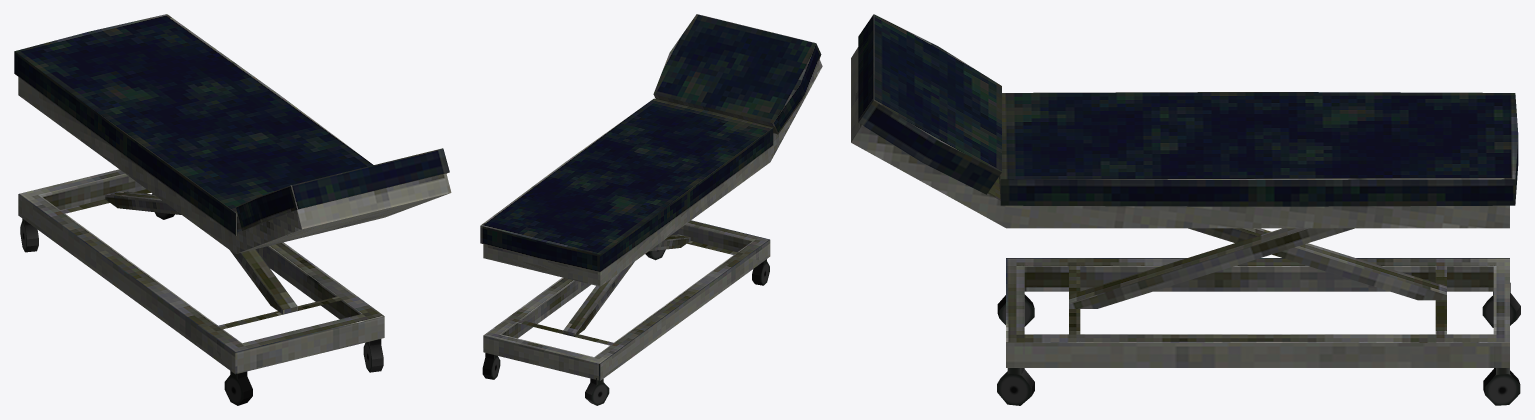
File: SM_GurneyBed.fbx
3 views of the same model, side by side, from view 1: azimuth 30°, elevation 25°; view 2: azimuth 150°, elevation 25°; view 3: azimuth 270°, elevation 25° (orthographic). The views are drawn at different scales.
Parts seen in each view (by area): view 1: SM_GurneyBed; view 2: SM_GurneyBed; view 3: SM_GurneyBed.
Boxes of the visible parts, <box> form: SM_GurneyBed: <box>14,14,451,405</box>; SM_GurneyBed: <box>480,14,822,405</box>; SM_GurneyBed: <box>851,14,1520,405</box>.
Size of the model in its own units: 66.89 by 101 by 200.
